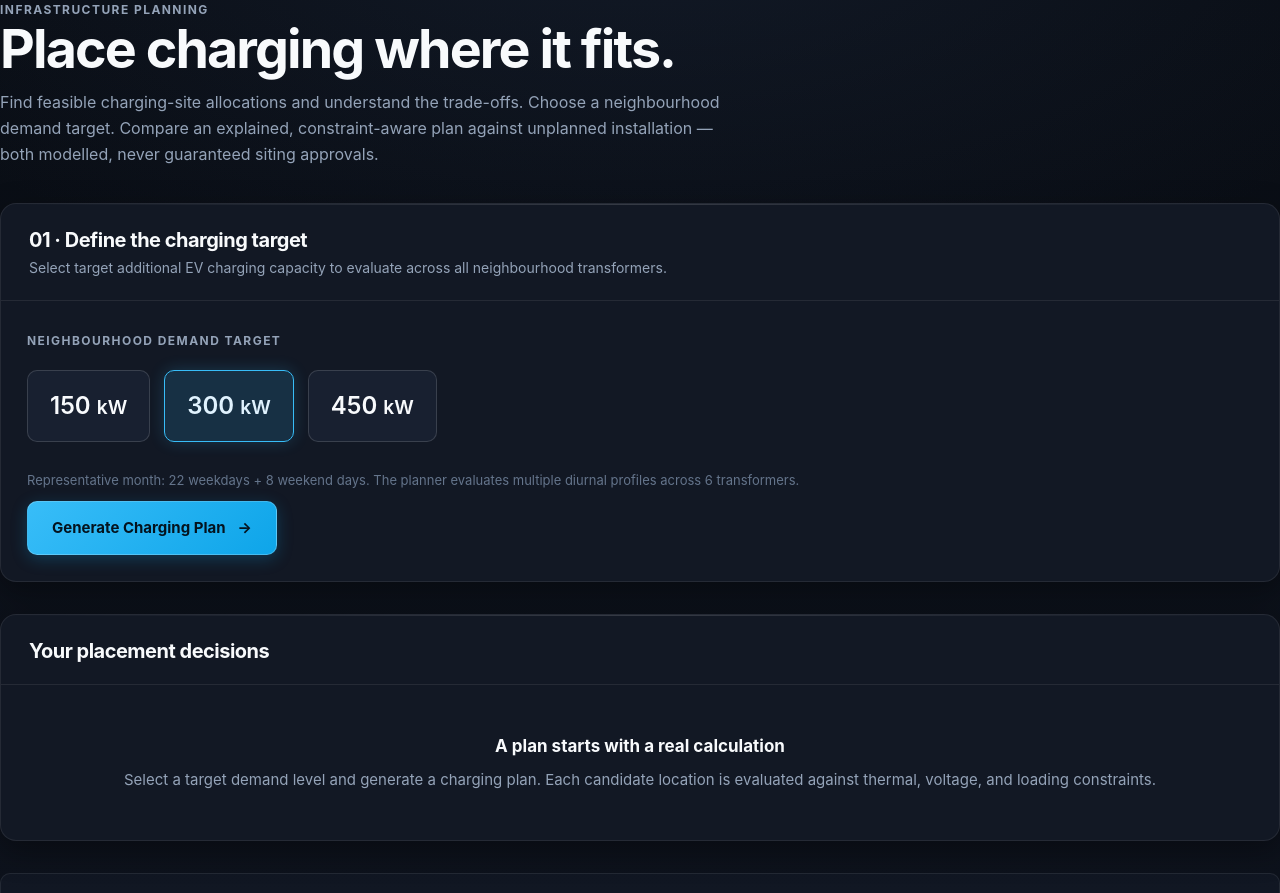
Test case: rejects a plan belonging to a different target rather than displaying it
What coordinates should you click on to do the following:
click the button with aria-label "Generate placement plan"
I would click on:
 (152, 528)
Its box is top-left (27, 501), bottom-right (277, 555).
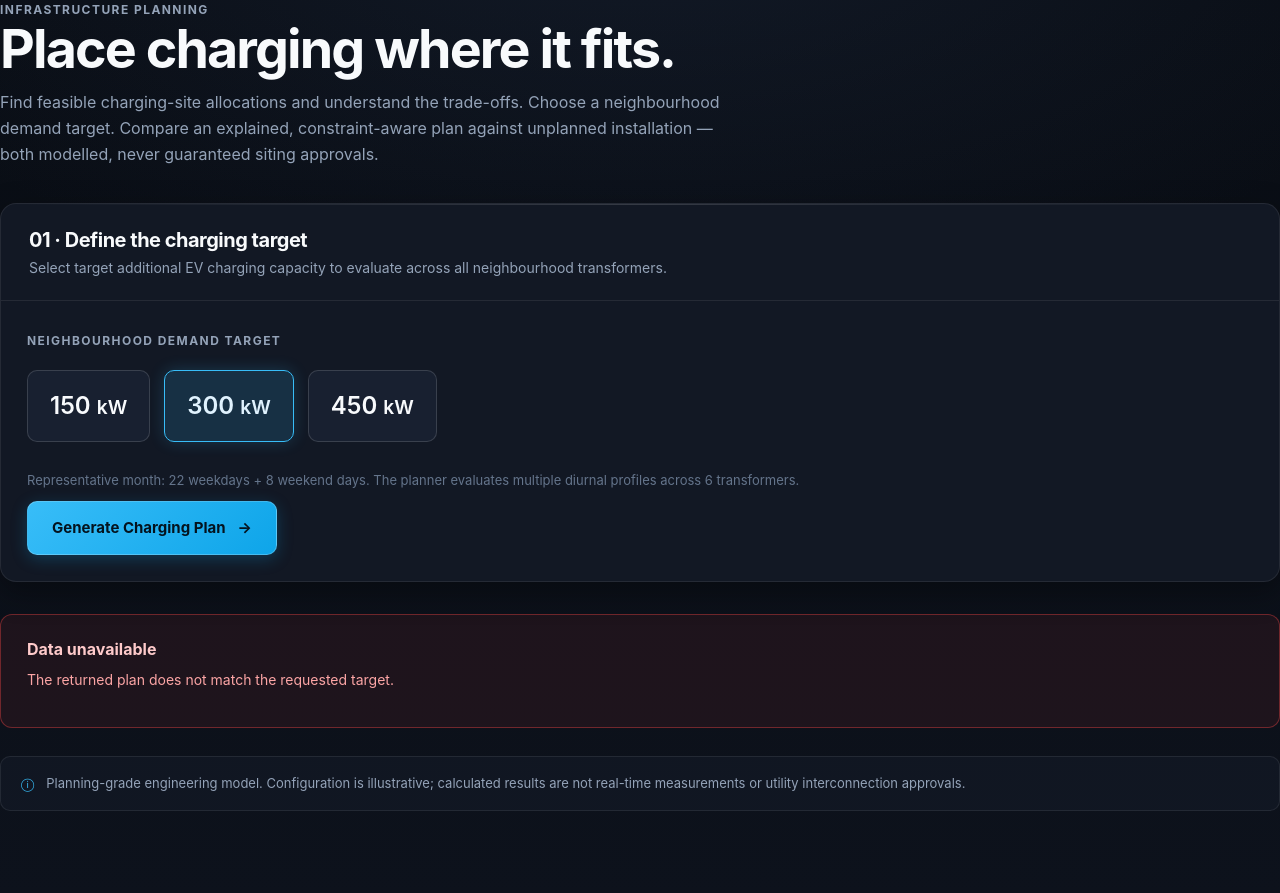
expect the message shows "does not match": met, box top-left (27, 671), bottom-right (394, 688)
